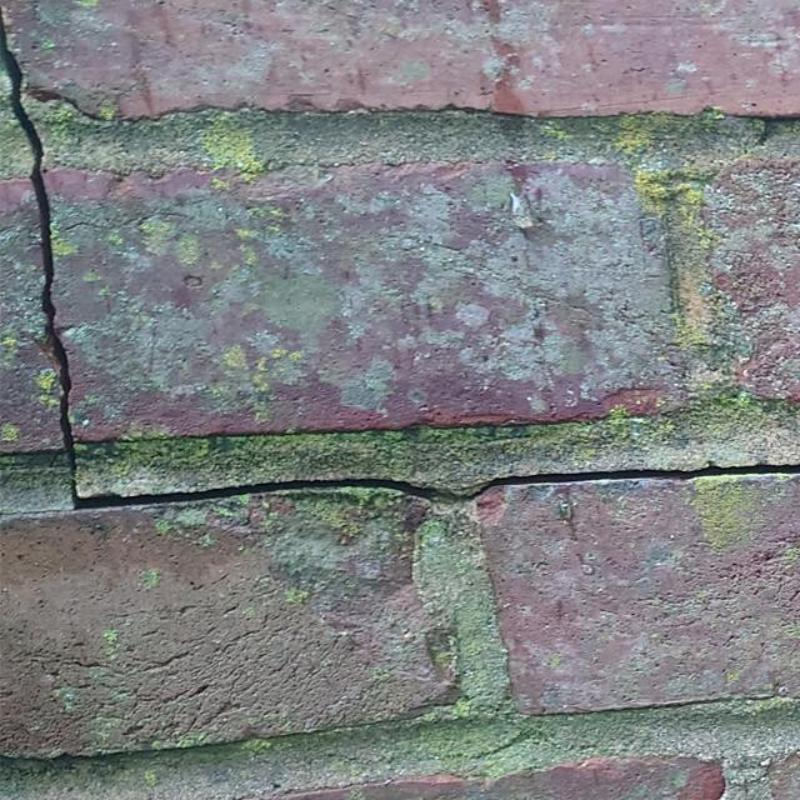pothole: (0, 12, 800, 509)
